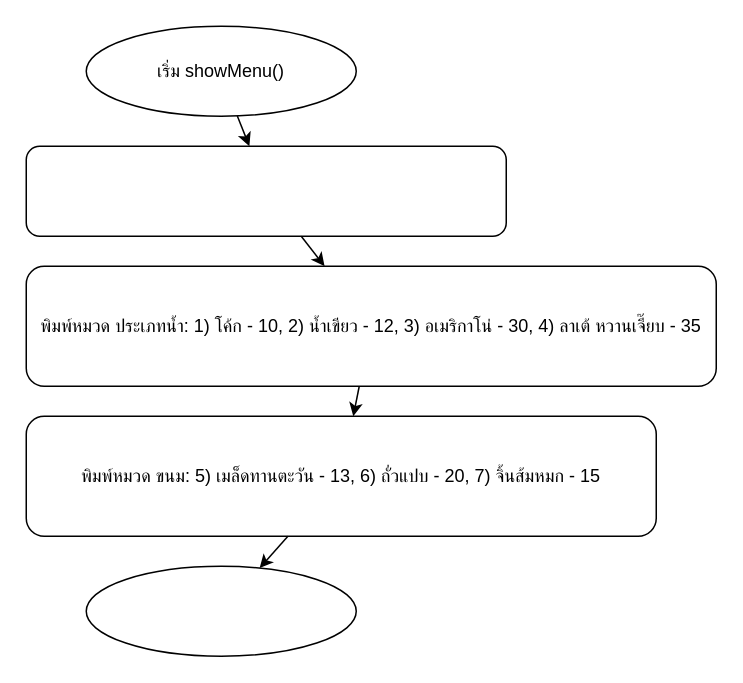
The diagram is 743 pixels wide and 683 high, and some of its shapes have lost their labels. Each missing label, with the box of its shape:
จบ showMenu(): (85, 565, 356, 656)
พิมพ์หัวข้อ: ตู้กดน้ำ & ขนม ตะพาบลอย: (25, 145, 506, 236)
